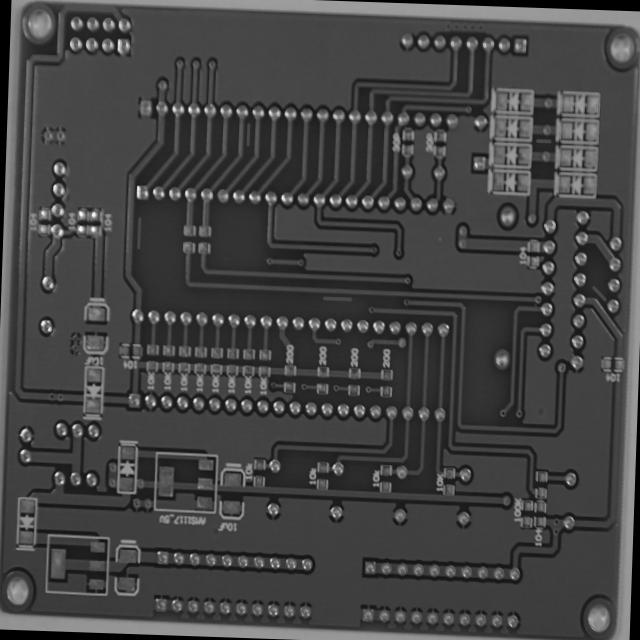spurious_copper: (131, 212, 146, 252), (319, 289, 354, 306), (587, 281, 607, 304), (532, 132, 556, 148), (241, 120, 254, 148)
